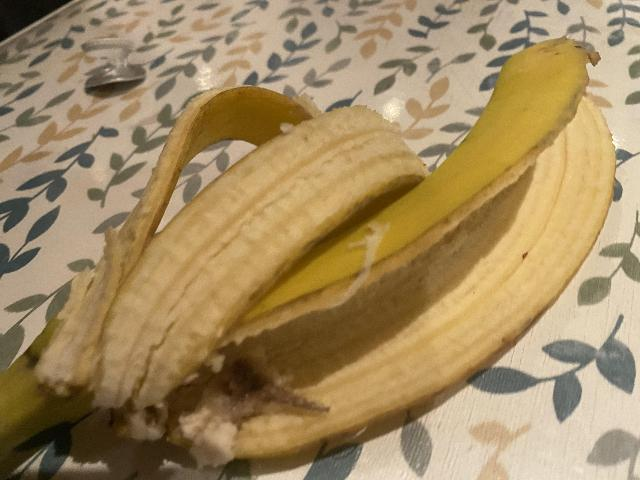Organik: (214, 84, 614, 393), (0, 92, 217, 480)
Plastik: (71, 43, 160, 100)
